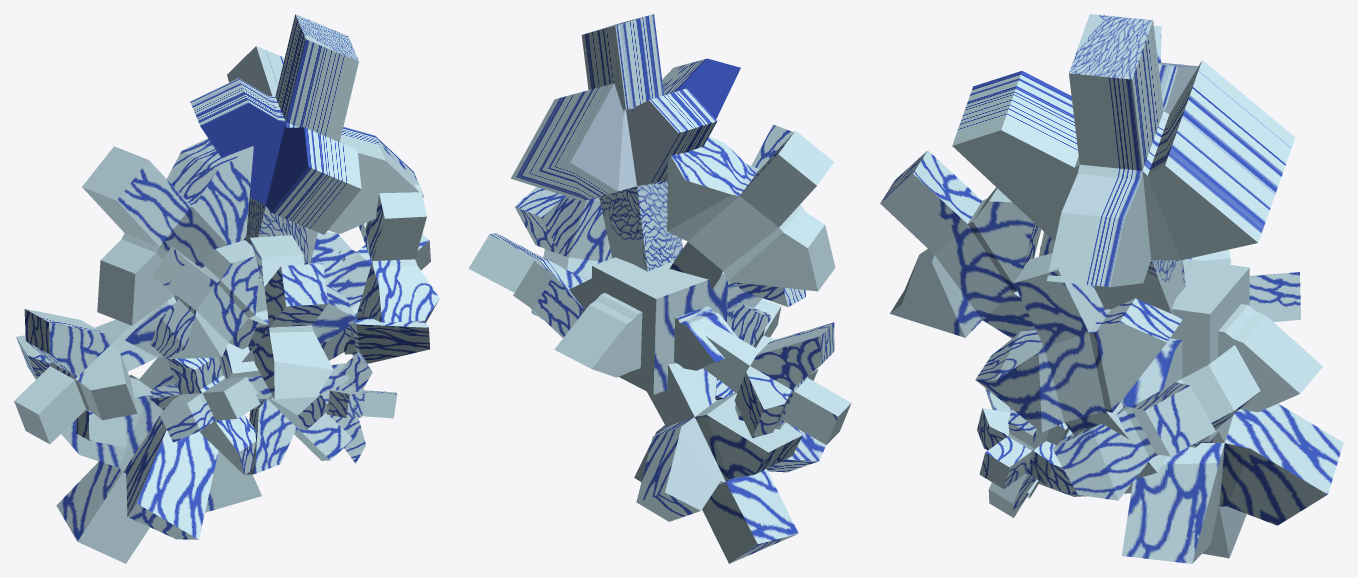
The model's file is corail 4.glb.
The picture shows the model from 3 angles, left to right: view 1: azimuth 30°, elevation 25°; view 2: azimuth 150°, elevation 25°; view 3: azimuth 270°, elevation 25°; orthographic projection. The views are drawn at different scales.
Parts seen in each view (by area): view 1: composant B.008, composant B.011, composant B.001, composant B.018, composant B.012, composant B.013, composant B.005, composant B.019, composant B.021, composant B.015, composant A, composant B.002; view 2: composant B.008, composant B.011, composant B.001, composant A, composant B.018, composant B.021, composant B.005, composant B.019, composant B.013, composant B.012; view 3: composant B.008, composant B.001, composant B.005, composant B.012, composant A, composant B.021, composant B.002, composant B.018, composant B.015.
Boxes of the visible parts, x1,y1,x2,y2 form: composant B.008: (190, 14, 424, 278); composant B.011: (82, 138, 267, 325); composant B.001: (56, 357, 261, 563); composant B.018: (14, 307, 158, 447); composant B.012: (242, 235, 333, 399); composant B.013: (150, 240, 268, 359); composant B.005: (343, 184, 439, 354); composant B.019: (149, 357, 260, 474); composant B.021: (310, 232, 430, 363); composant B.015: (246, 363, 353, 474); composant A: (125, 278, 357, 379); composant B.002: (326, 352, 397, 463); composant B.008: (511, 14, 740, 271); composant B.011: (667, 130, 835, 291); composant B.001: (634, 363, 826, 563); composant A: (554, 257, 762, 394); composant B.018: (702, 322, 851, 444); composant B.021: (468, 233, 587, 337); composant B.005: (514, 187, 612, 317); composant B.019: (715, 299, 781, 399); composant B.013: (727, 204, 805, 307); composant B.012: (747, 124, 793, 171); composant B.008: (952, 14, 1295, 314); composant B.001: (1039, 403, 1343, 563); composant B.005: (975, 253, 1182, 478); composant B.012: (880, 150, 1041, 338); composant A: (1120, 259, 1323, 442); composant B.021: (1052, 345, 1260, 500); composant B.002: (977, 408, 1073, 517); composant B.018: (1188, 249, 1300, 321); composant B.015: (985, 388, 1072, 498).
Bounding box in the file's own units: 20.43 × 25 × 16.69.
Materials: 1 (1 with a texture image).
